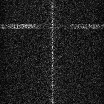wifi: (1, 24, 104, 28)
